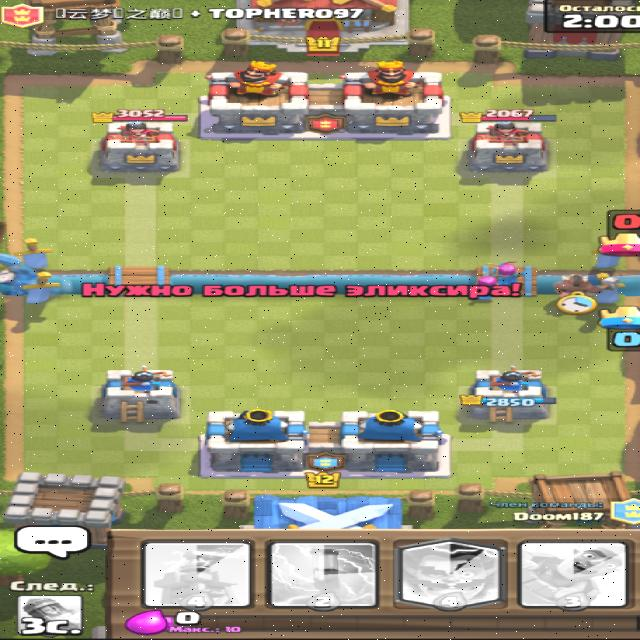Player-Archer: (486, 259, 525, 284), (471, 272, 497, 303)
Player-HogRider: (552, 273, 618, 300)
